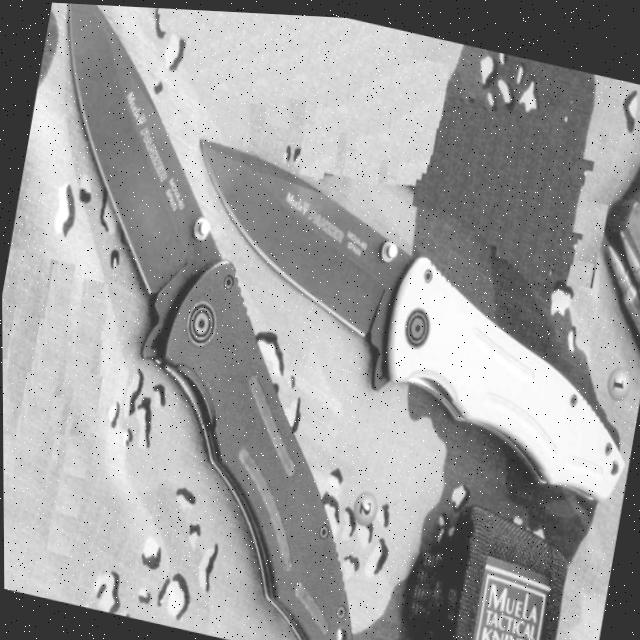knife: (0, 0, 456, 640), (117, 72, 640, 502)
